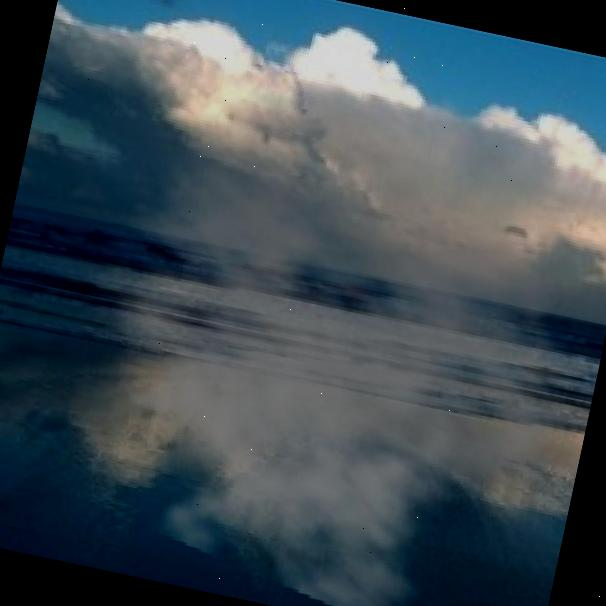smoke: (8, 48, 606, 606)
